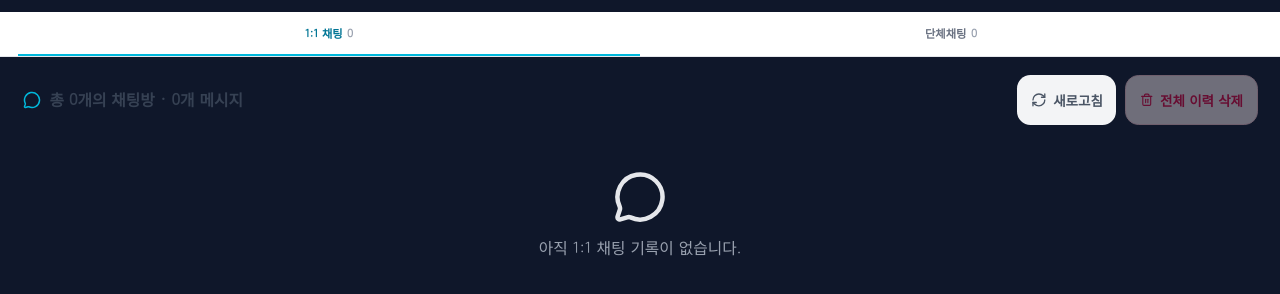
Test: admin ConfirmDialog › 관리자 단체방 수는 목록 방과 년생 방을 나눠 보여 준다
Click the button "단체채팅0": (951, 34) x1=640 y1=12 x2=1262 y2=56
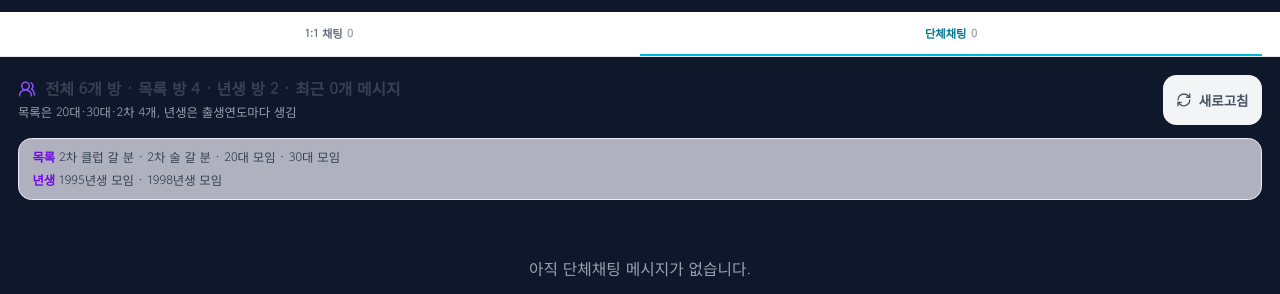
Expected: the navigation bar named "채팅 구분" is shown, x1=0 y1=12 x2=1279 y2=57
Result: the text "전체 6개 방 · 목록 방 4 · 년생 방 2 · 최근 0개 메시지" is shown at x1=45 y1=78 x2=400 y2=101
Result: the text "년생 1995년생 모임 · 1998년생 모임" is shown at x1=32 y1=171 x2=222 y2=189
